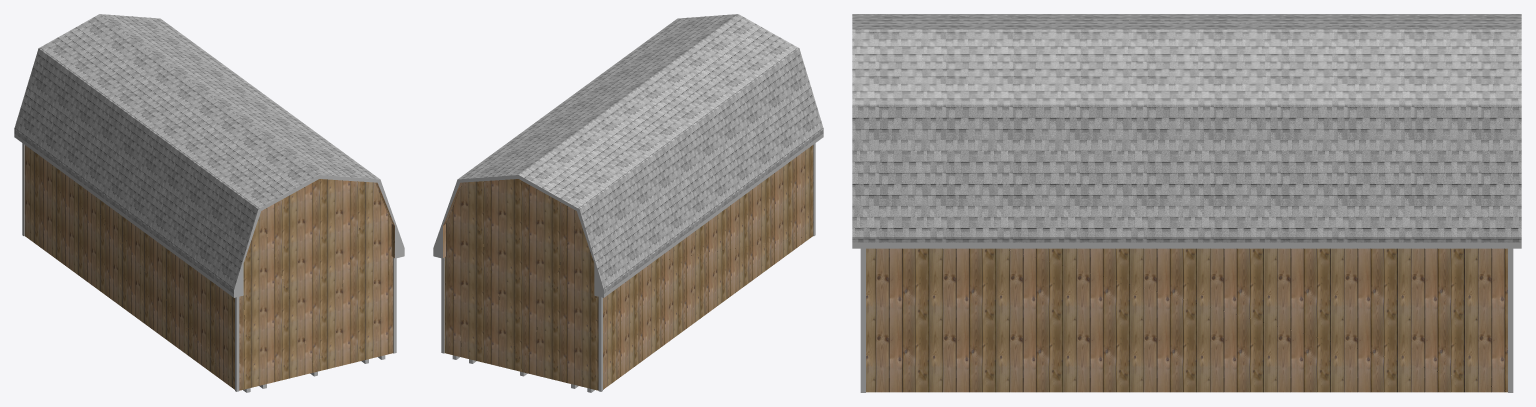
The model's file is Two Story Gambrel_14x32.obj.
3 renders of one model, left to right at view 1: azimuth 30°, elevation 25°; view 2: azimuth 150°, elevation 25°; view 3: azimuth 270°, elevation 25°, orthographic. The views are drawn at different scales.
Visible parts, largest first — view 1: Roof, Shed, Sides, Trim; view 2: Roof, Shed, Sides, Trim; view 3: Roof, Shed, Sides, Trim.
Part boxes in pixels (x1,y1,x2,y2): Roof: [14, 14, 379, 293]; Shed: [24, 145, 394, 390]; Sides: [14, 133, 404, 297]; Trim: [22, 143, 396, 391]; Roof: [458, 14, 823, 293]; Shed: [443, 145, 813, 390]; Sides: [433, 133, 823, 297]; Trim: [441, 143, 815, 391]; Roof: [852, 14, 1521, 242]; Shed: [866, 248, 1507, 392]; Sides: [852, 242, 1521, 248]; Trim: [860, 248, 1513, 392].
Bounding box in the file's own units: 4.51 × 5.14 × 10.06.
